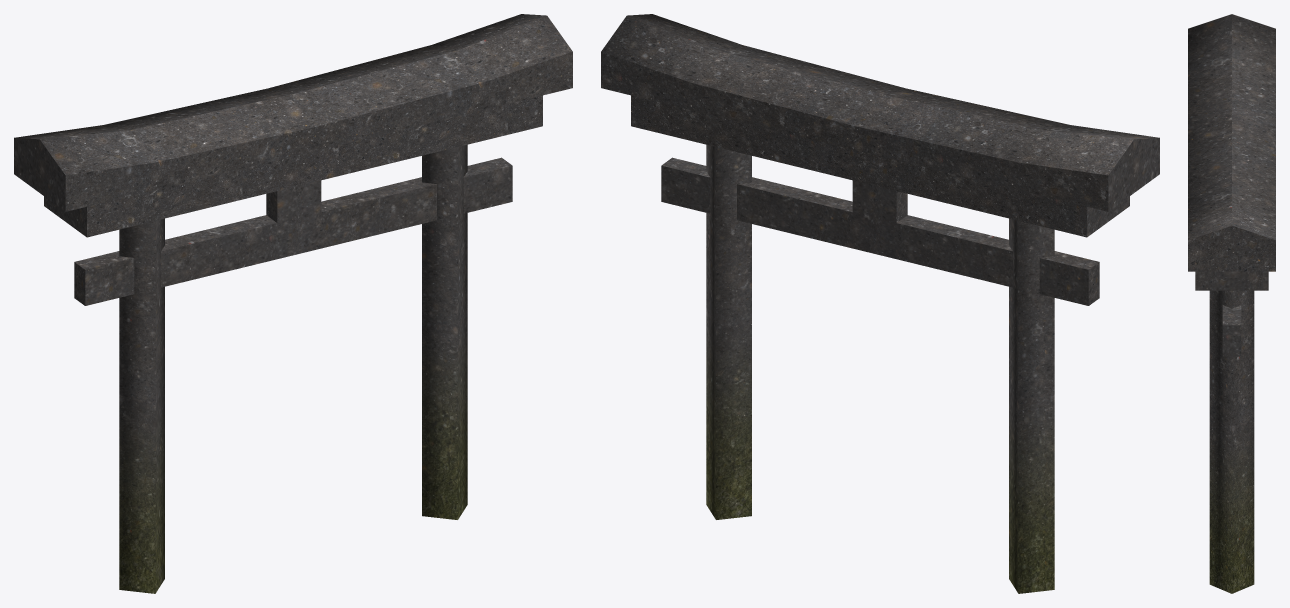
File: torii_gate.fbx
3 views of the same model, side by side, from view 1: azimuth 30°, elevation 25°; view 2: azimuth 150°, elevation 25°; view 3: azimuth 270°, elevation 25° (orthographic). The views are drawn at different scales.
Parts seen in each view (by area): view 1: Circle; view 2: Circle; view 3: Circle.
Part boxes in pixels (x1,y1,x2,y2): Circle: (14,14,572,593); Circle: (601,14,1159,593); Circle: (1188,14,1275,593).
Size of the model in its own units: 668 by 591 by 117.
1 material, 1 textured.
